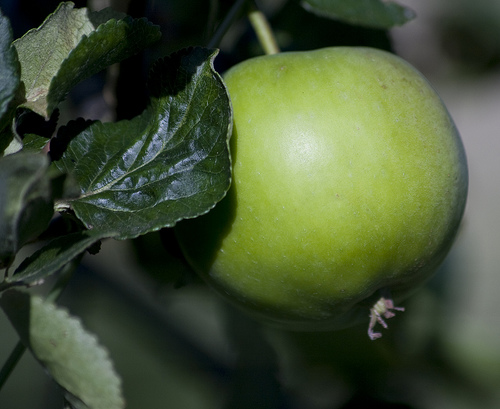apple: (194, 44, 473, 338)
